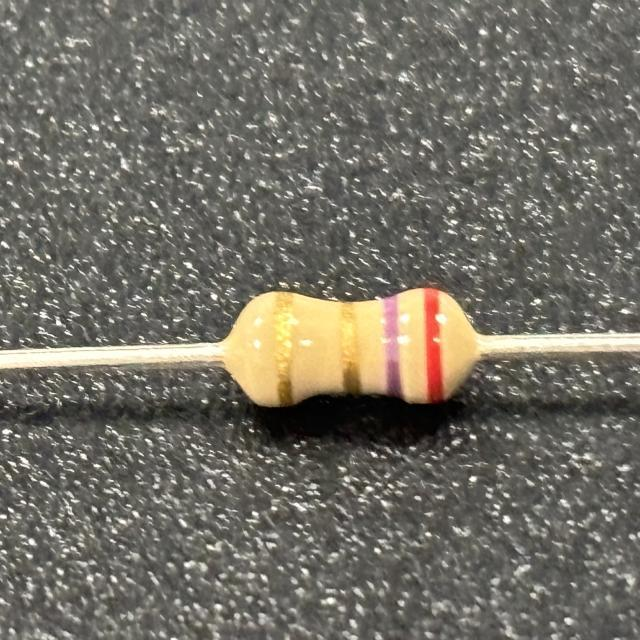resistor: (234, 272, 469, 421)
